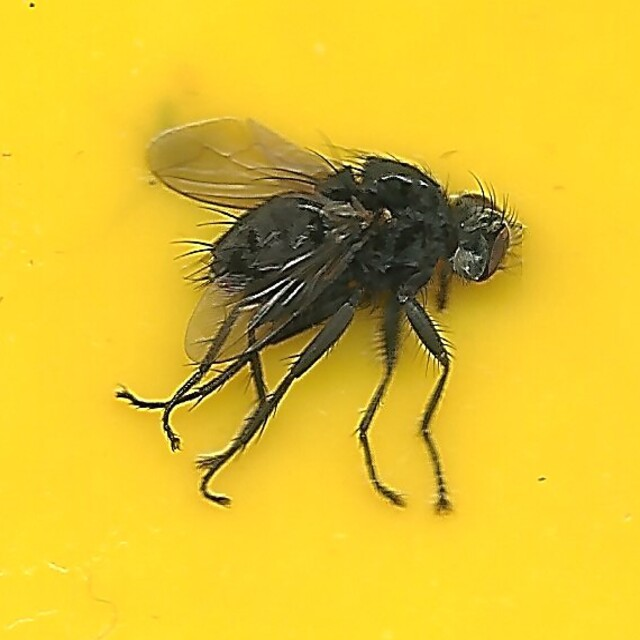Brachycera: (112, 116, 528, 524)
